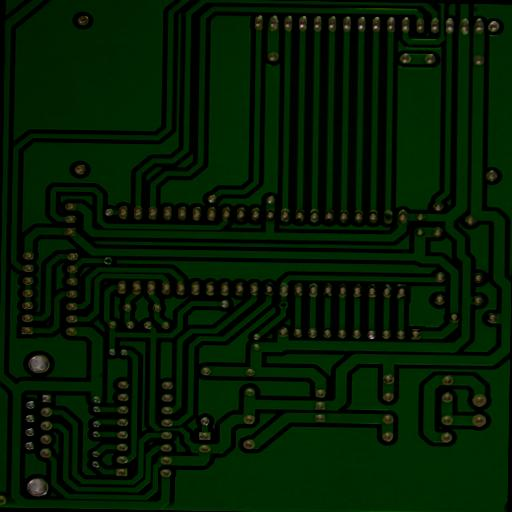missing_hole: (382, 210, 392, 226), (275, 300, 288, 311), (101, 256, 112, 266)
